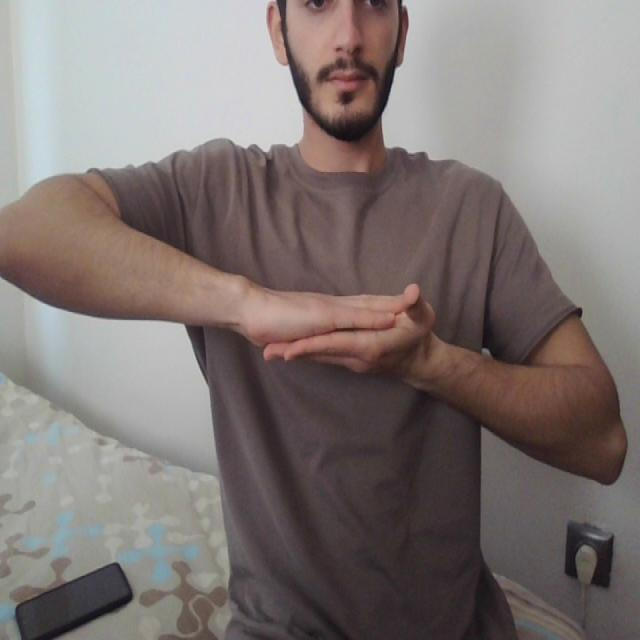Arkadas: (155, 274, 515, 390)
